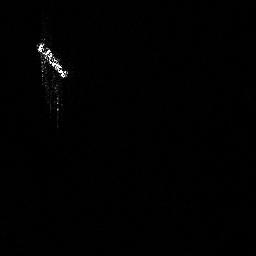ship: (33, 38, 73, 83)
